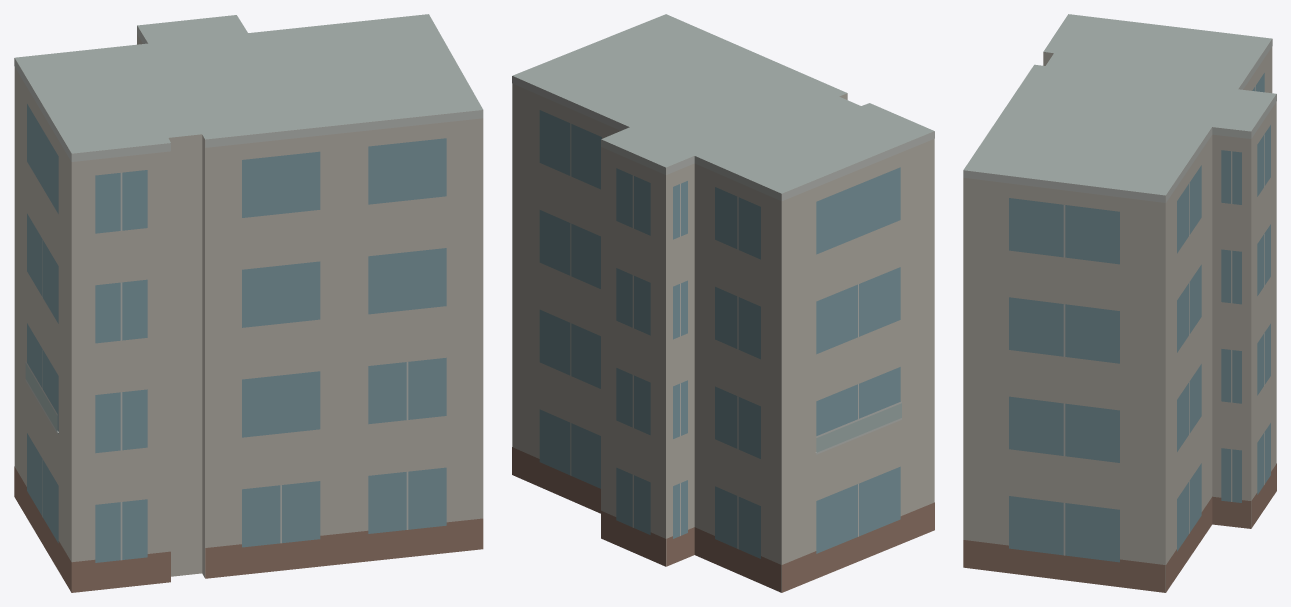
The model's file is survey-upis-32657173.glb.
3 views of the same model, side by side, from view 1: azimuth 30°, elevation 25°; view 2: azimuth 150°, elevation 25°; view 3: azimuth 270°, elevation 25° (orthographic). The views are drawn at different scales.
Parts seen in each view (by area): view 1: survey-upis-32657173.tmp; view 2: survey-upis-32657173.tmp; view 3: survey-upis-32657173.tmp.
Boxes of the visible parts, x1=… form: survey-upis-32657173.tmp: x1=14, y1=14, x2=483, y2=592; survey-upis-32657173.tmp: x1=512, y1=14, x2=934, y2=592; survey-upis-32657173.tmp: x1=963, y1=14, x2=1276, y2=592.
Size of the model in its own units: 12.55 by 12.8 by 9.16.
